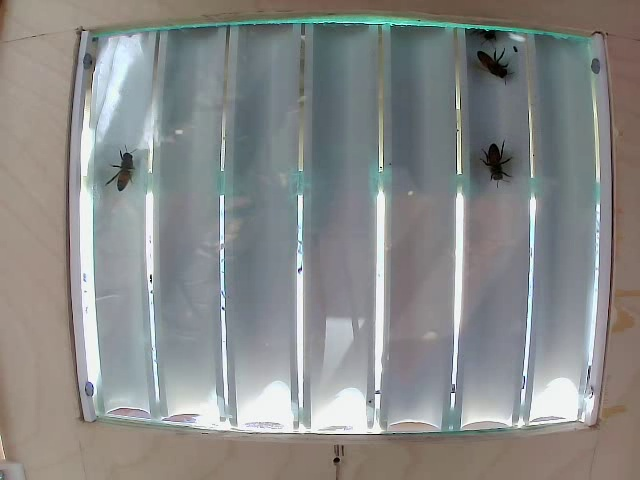bee: (110, 154, 150, 202), (474, 60, 528, 95), (473, 141, 517, 180)
